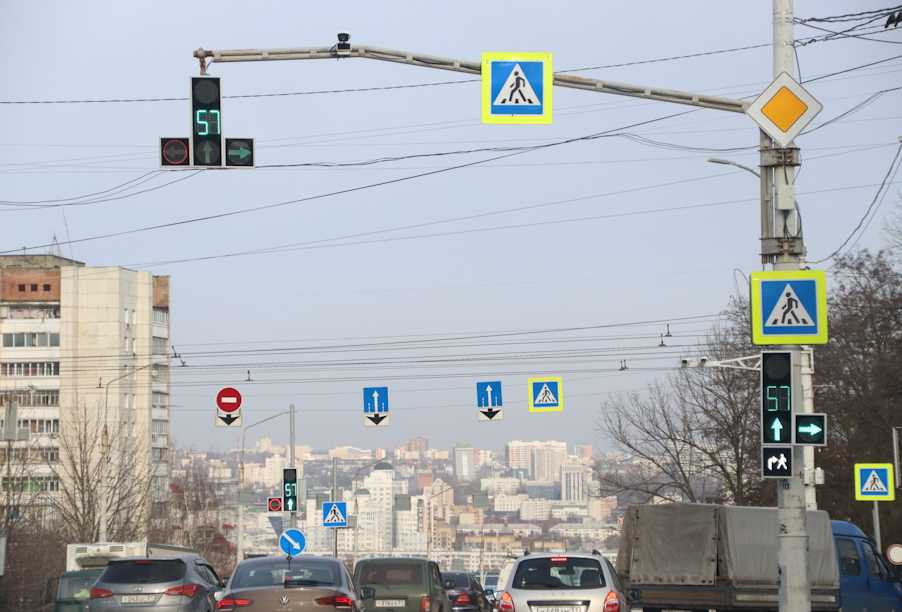tl: (163, 71, 254, 169), (762, 350, 822, 478)
